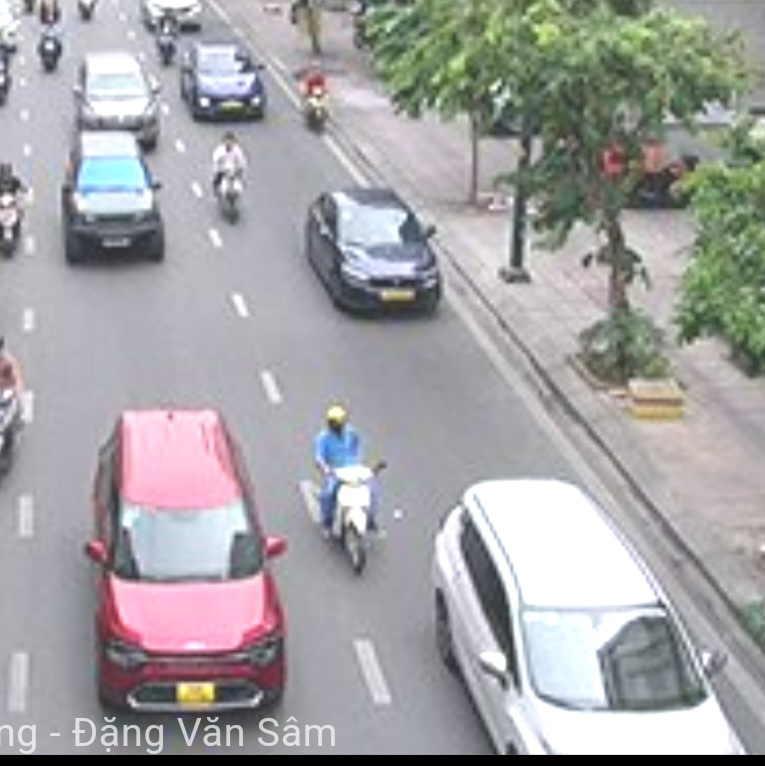car: (435, 476, 744, 750), (93, 409, 288, 714), (303, 186, 441, 316), (60, 130, 163, 259), (182, 38, 266, 121), (76, 54, 158, 131)
